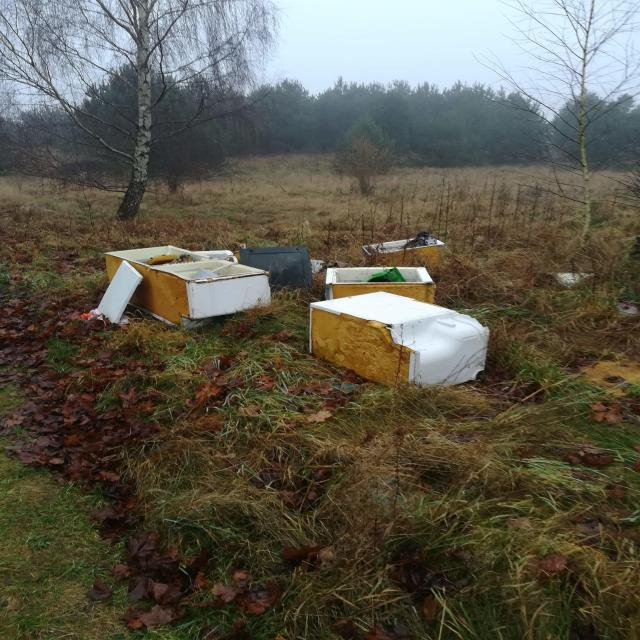litter: (95, 245, 272, 325)
